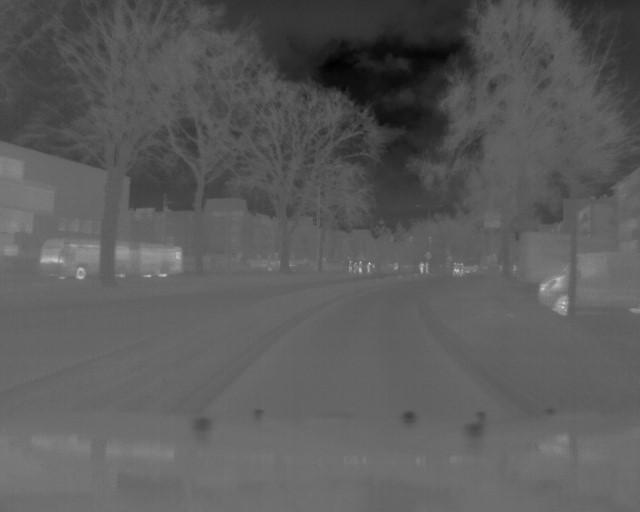car: (37, 235, 188, 284)
